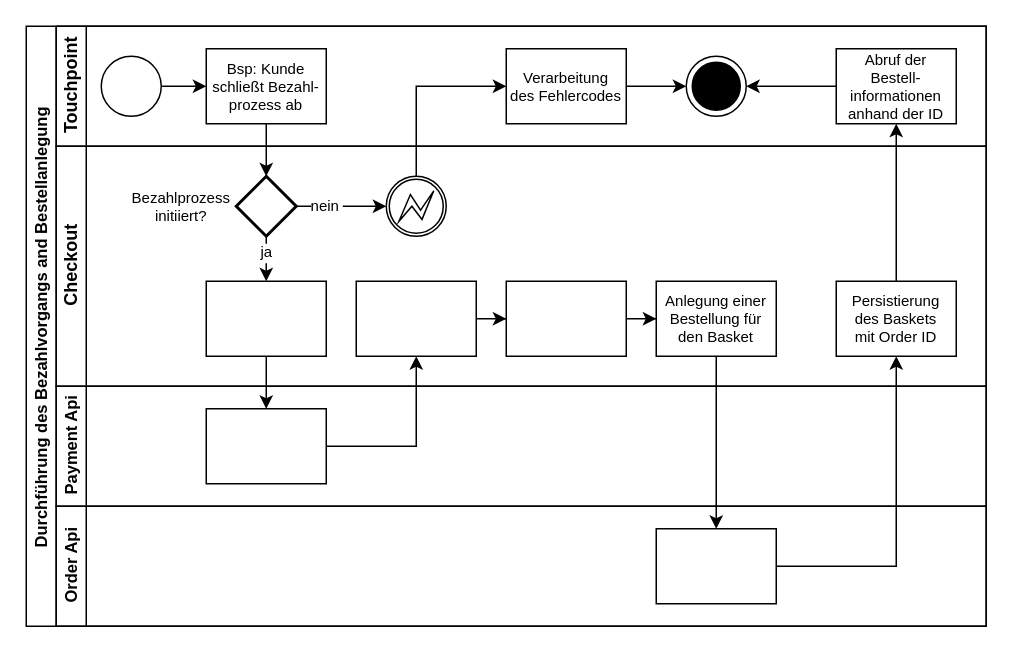
This 1011x651 diagram has some shape labels left out. Each missing label, with the centre of its shape:
"Aktualisierung und finalisieren des Baskets" belongs at (x=415, y=318).
"Anweisung auf Durchführung des Bezahl- prozesses" belongs at (x=265, y=318).
"Bestellanlegung und Rückgabe der Bestell-ID" belongs at (x=715, y=565).
"Durchführung des Bezahl- prozesses" belongs at (x=265, y=445).
"Persistierung des aktuellen Baskets" belongs at (x=565, y=318).
